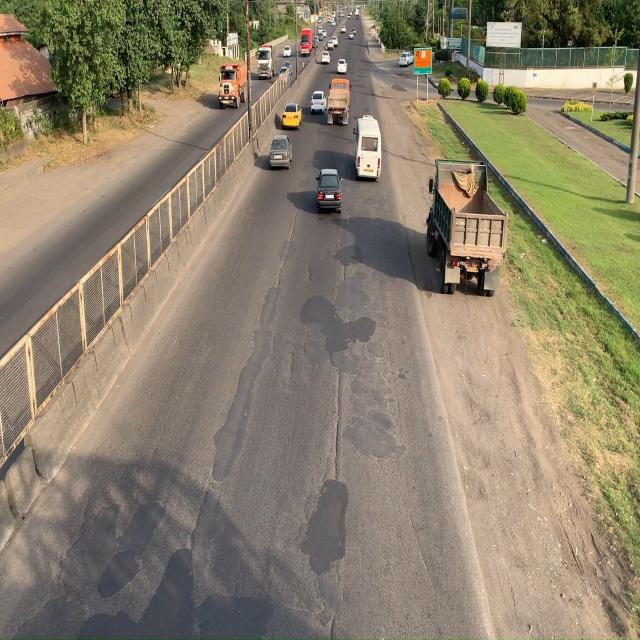Bus: (354, 115, 384, 180)
Truck: (424, 156, 508, 298), (216, 61, 248, 108)
cars: (314, 168, 344, 218), (266, 133, 293, 173), (282, 100, 304, 133), (308, 89, 326, 118)
